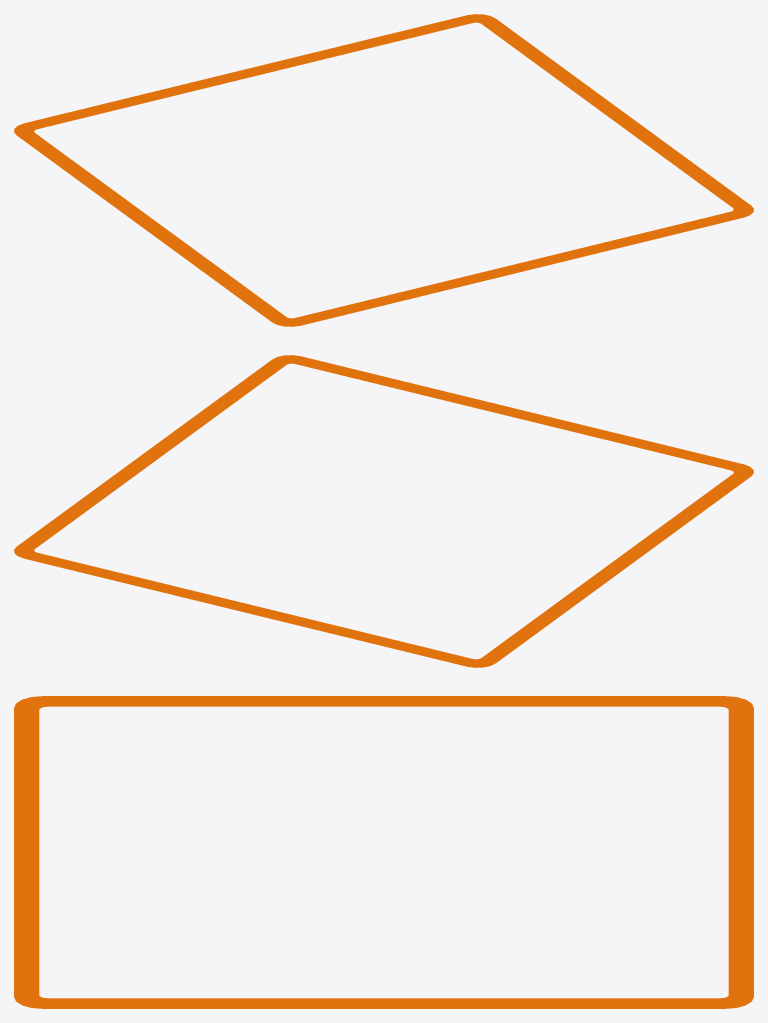
The model's file is borderObject-objects.glb.
3 views of the same model, one above another, from view 1: azimuth 30°, elevation 25°; view 2: azimuth 150°, elevation 25°; view 3: azimuth 270°, elevation 25° (orthographic). The views are drawn at different scales.
Parts seen in each view (by area): view 1: borderObject-objects; view 2: borderObject-objects; view 3: borderObject-objects.
Boxes of the visible parts, x1=… form: borderObject-objects: x1=14, y1=14, x2=753, y2=326; borderObject-objects: x1=14, y1=355, x2=753, y2=667; borderObject-objects: x1=14, y1=696, x2=753, y2=1008.
Size of the model in its own units: 0.8313 by 0 by 0.8313.
